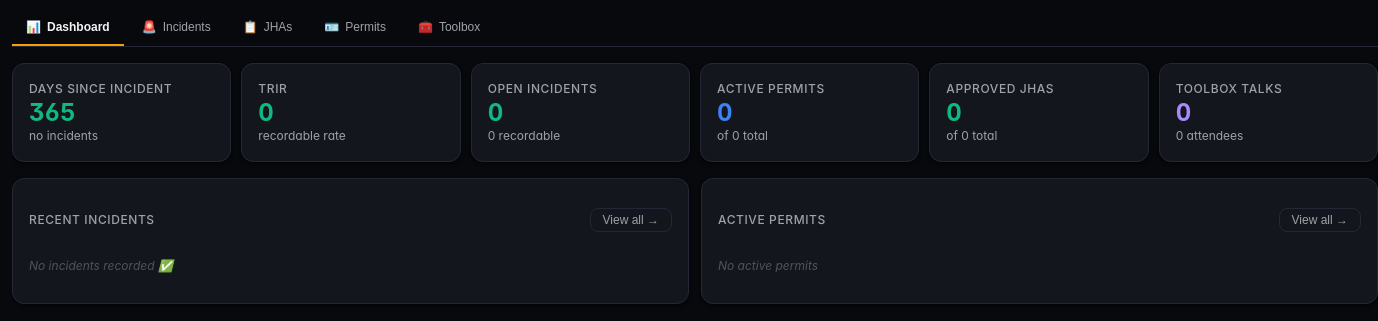
Test: incident states are distinguishable › distinguishes "not allowed" from "no incidents"
Click the tab "🚨 Incidents" at x=176, y=29, box [128,12,225,46]
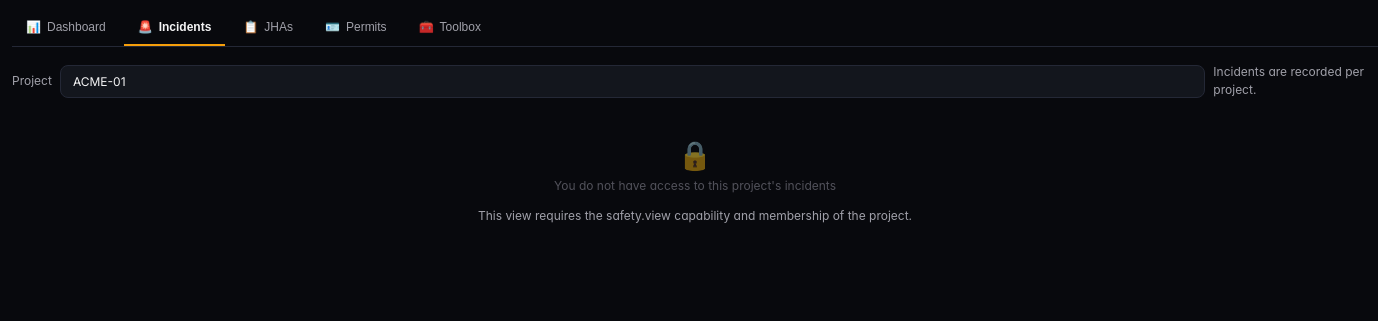
Result: the text "You do not have access to this project's incidents" is shown at [554,177,836,195]
Result: the text "safety.view" is shown at [478,208,912,223]
